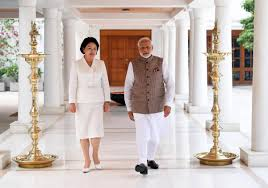Caution: (68, 34, 174, 178)
